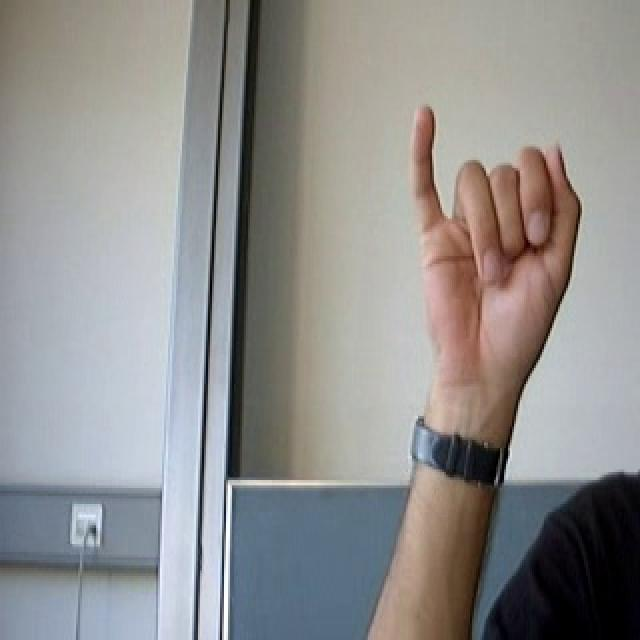I: (389, 93, 598, 399)
